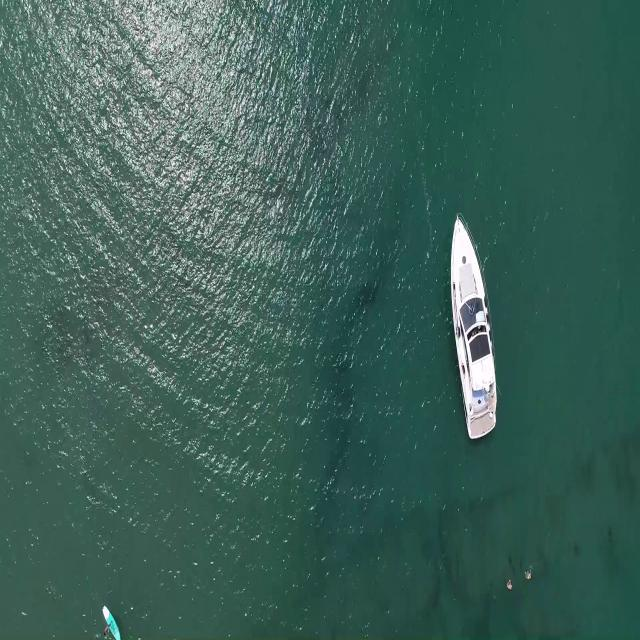boat: (448, 212, 502, 444)
person: (523, 567, 536, 581), (506, 578, 514, 588)
surfboard: (103, 602, 119, 640)
